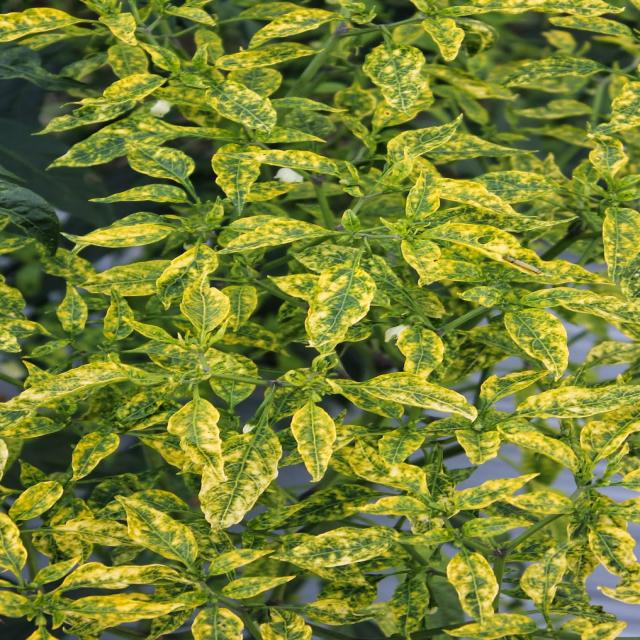virus_kuning: (352, 369, 480, 424), (108, 496, 198, 574), (147, 399, 233, 474), (499, 303, 571, 381), (290, 395, 340, 493)
